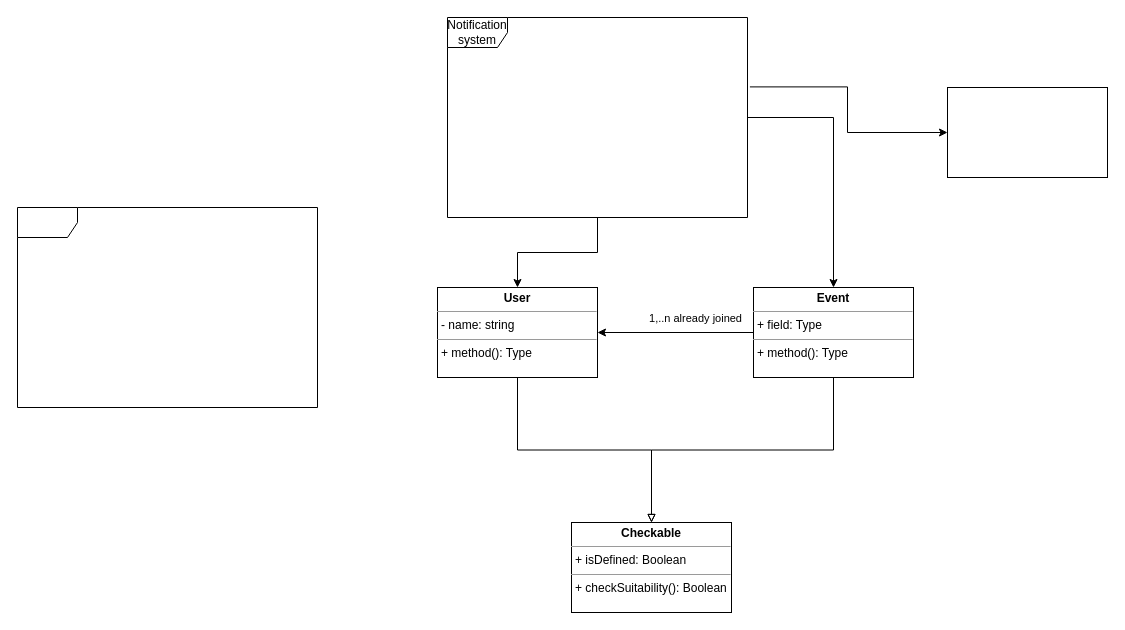
The diagram is 1125 pixels wide and 630 high, and some of its shapes have lost their labels. The shapes that lost their labels are listed below. From the top down, each one's centre as x and y in pixels, then its label:
At [1027,132]: "Organization + field: Type + method(): Type".
At [167,307]: "Evaluation system".
